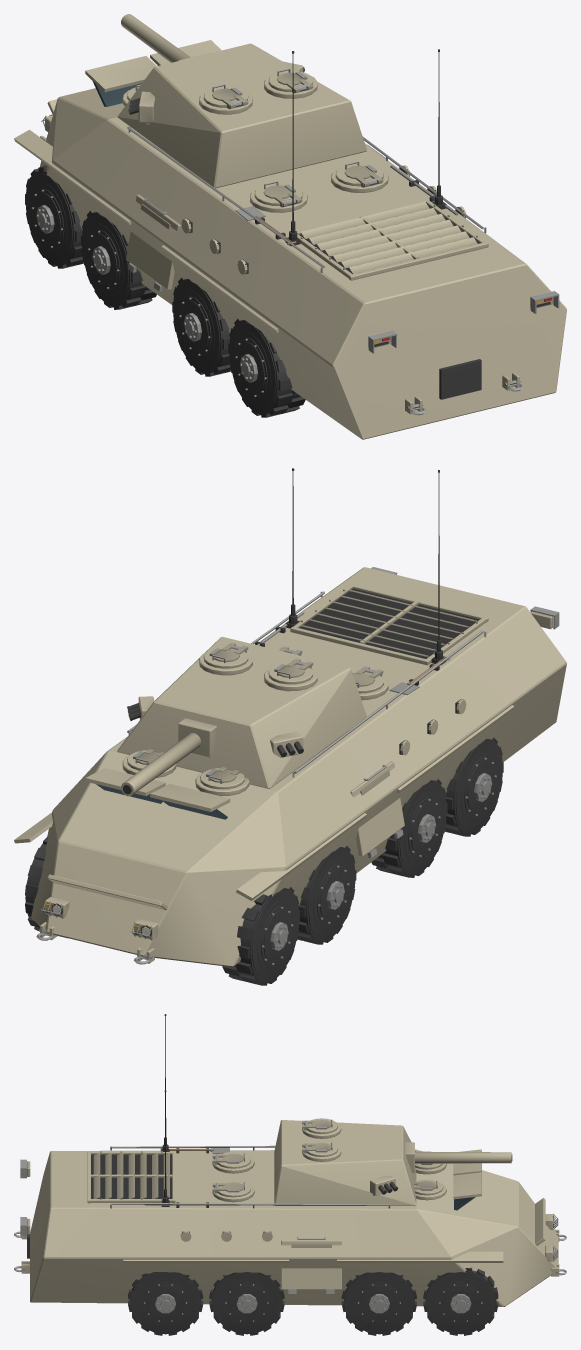
The model's file is rus_mor_nonasvk.glb.
The picture shows the model from 3 angles, top to bottom: view 1: azimuth 30°, elevation 25°; view 2: azimuth 150°, elevation 25°; view 3: azimuth 270°, elevation 25°; orthographic projection. The views are drawn at different scales.
Parts seen in each view (by area): view 1: body, turret, wheel_6, wheel_2, wheel_0, wheel_4, barrel; view 2: body, turret, wheel_0, wheel_4, wheel_6, wheel_2, barrel, wheel_1; view 3: body, turret, wheel_1, wheel_7, wheel_5, wheel_3, barrel.
Part boxes in pixels (x1,y1,x2,y2): body: (14, 40, 566, 439); turret: (117, 43, 366, 188); wheel_6: (228, 318, 305, 417); wheel_2: (81, 211, 156, 309); wheel_0: (25, 166, 83, 268); wheel_4: (172, 277, 230, 376); barrel: (121, 14, 210, 62); body: (14, 468, 566, 966); turret: (117, 636, 366, 788); wheel_0: (222, 887, 299, 985); wheel_4: (371, 779, 447, 877); wheel_6: (445, 737, 503, 836); wheel_2: (297, 846, 356, 944); barrel: (121, 718, 216, 796); wheel_1: (25, 836, 67, 938); body: (14, 1014, 566, 1306); turret: (274, 1118, 416, 1205); wheel_1: (423, 1267, 498, 1335); wheel_7: (128, 1272, 203, 1335); wheel_5: (209, 1272, 284, 1335); wheel_3: (341, 1272, 416, 1335); barrel: (405, 1142, 512, 1172).
Bounding box in the file's own units: 3.01 × 4.17 × 8.15.
